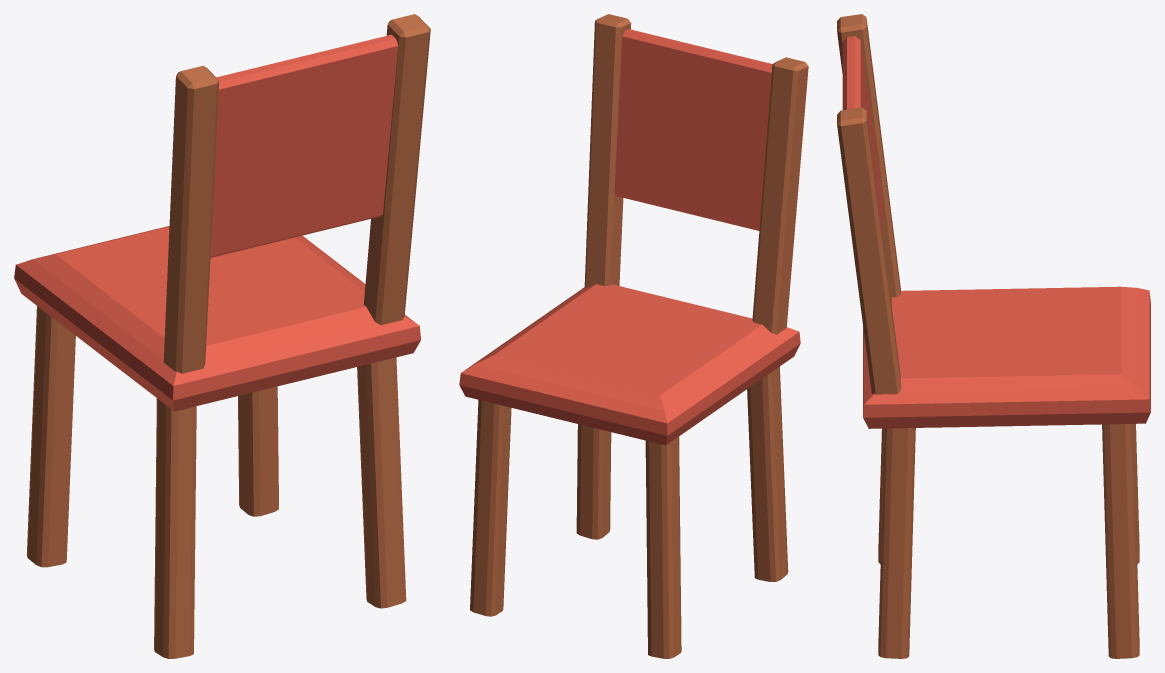
File: Chair1red.fbx
3 views of the same model, side by side, from view 1: azimuth 30°, elevation 25°; view 2: azimuth 150°, elevation 25°; view 3: azimuth 270°, elevation 25° (orthographic). The views are drawn at different scales.
Visible parts, largest first — view 1: chair 1 red; view 2: chair 1 red; view 3: chair 1 red.
Boxes of the visible parts, box(x1,y1,x2,y2) form: chair 1 red: box(14, 14, 430, 658); chair 1 red: box(459, 14, 808, 658); chair 1 red: box(837, 14, 1150, 658).
Bounding box in the file's own units: 135 × 310 × 163.
Materials: 1 (1 with a texture image).
